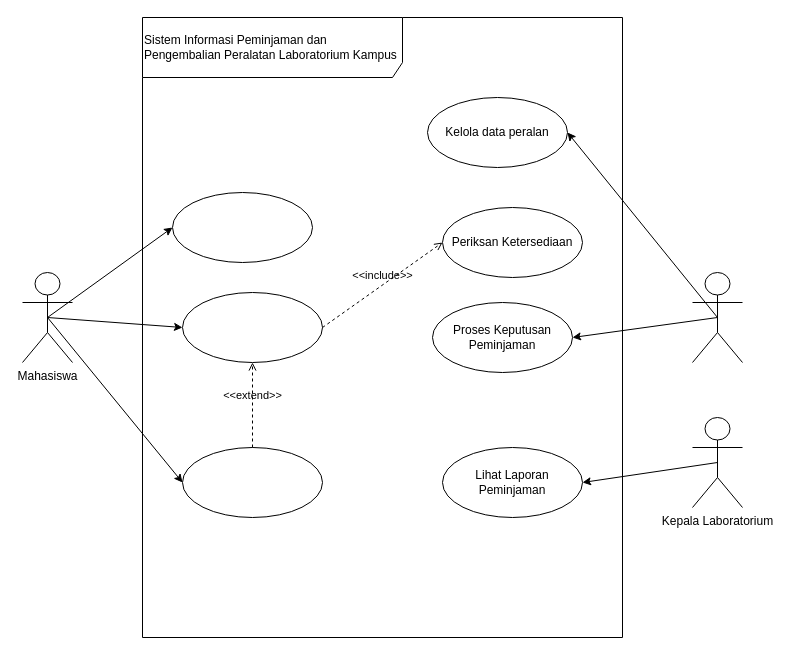
This 793x655 diagram has some shape labels left out. Here are the shapes that lost their labels. From the top down, the centre of each, then its label:
At pixel 242 227: "Cetak Bukti pengajuan".
At pixel 252 327: "Ajukan Peminjaman".
At pixel 717 317: "Petugas Laboratorium".
At pixel 252 482: "Lihat ketersediaan peralatan".
